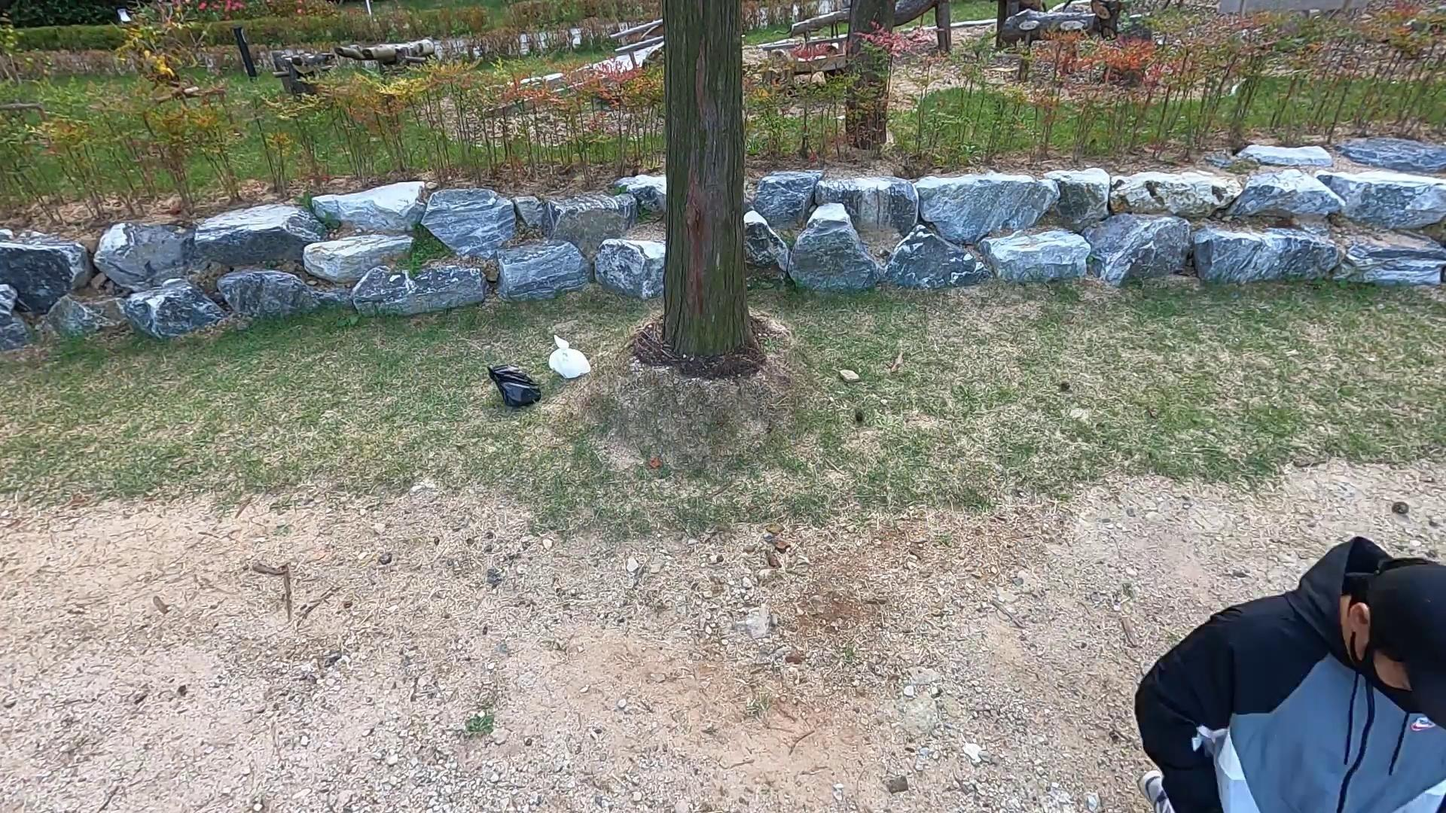person: (1129, 514, 1446, 813)
trash: (547, 322, 597, 386), (481, 355, 536, 412)
